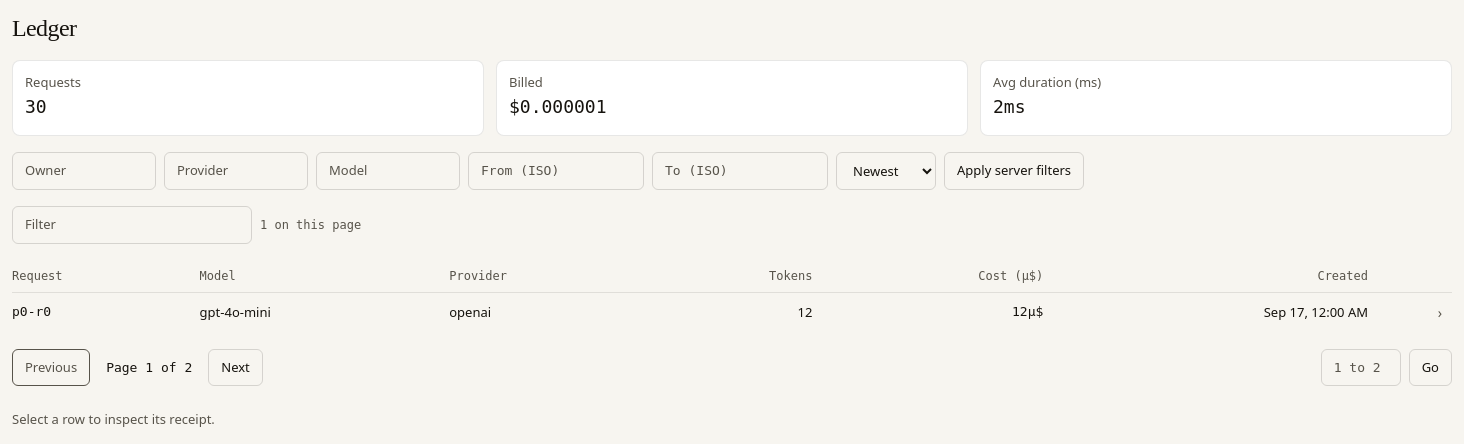
Scenario: LedgerPage › pages forward and back on the backend hasNext signal
This screenshot has width=1464, height=444.
Click the button "Next" at [236, 367], box [208, 348, 263, 386]
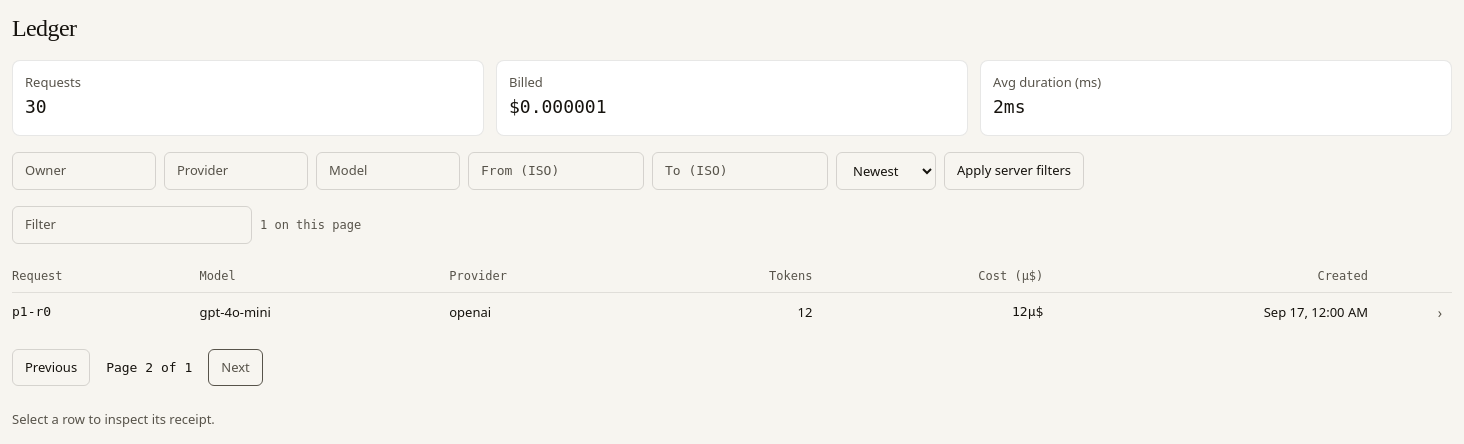
Check: the text "Page 2 of 1" is shown, box [106, 360, 192, 374]
Check: the text "p1-r0" is shown, box [12, 292, 200, 332]
Click the button "Previous" at [51, 367], box [12, 348, 90, 386]
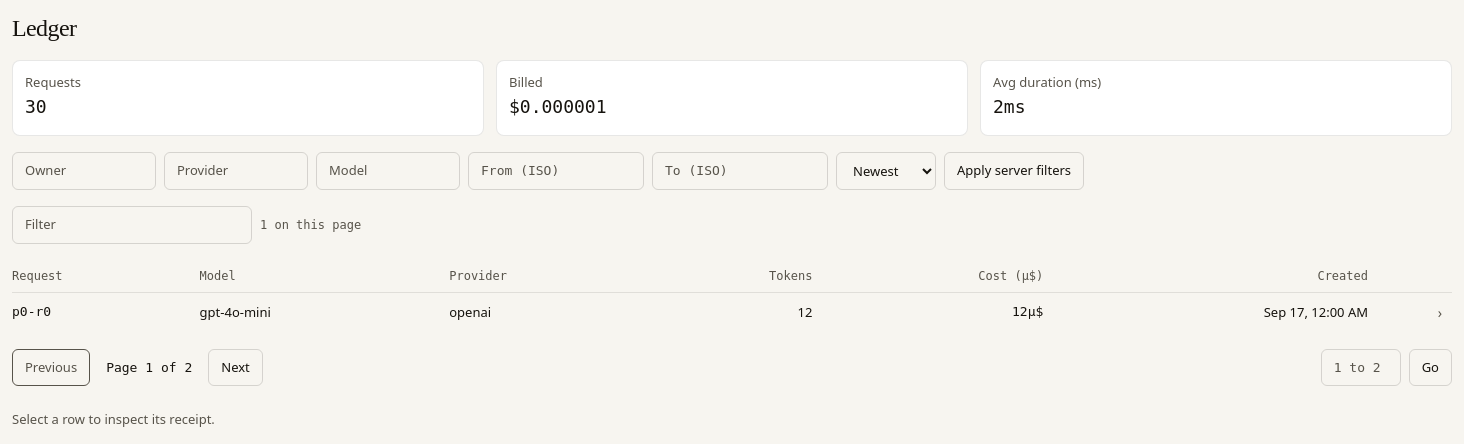
Check: the text "Page 1 of 2" is shown, box [106, 360, 192, 374]
